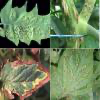Tomato leaf bacterial spot: (2, 52, 49, 98), (52, 50, 94, 100), (1, 3, 50, 45)
